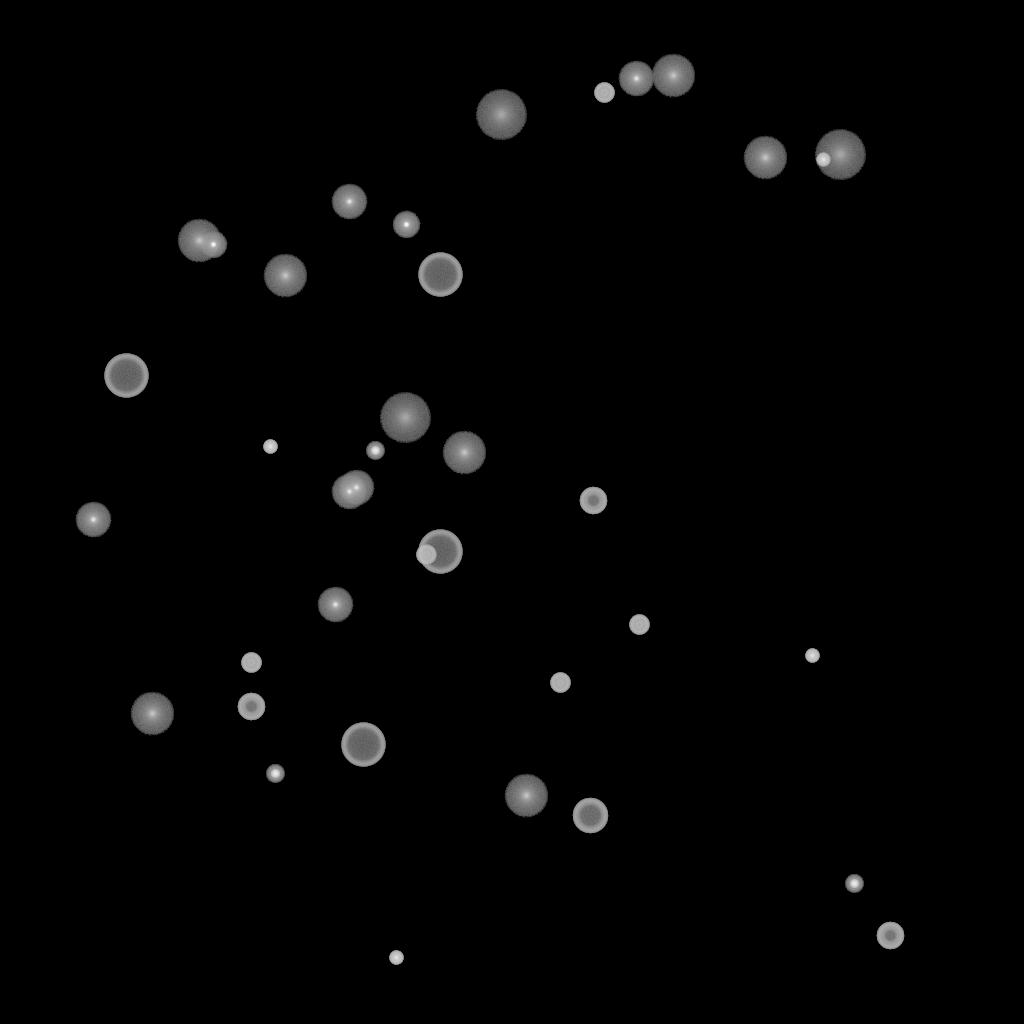depth:-10: (199, 231, 227, 259), (392, 211, 420, 239)
depth:-20: (266, 765, 284, 783), (366, 442, 384, 460), (845, 875, 863, 893)
depth:-30: (805, 649, 819, 663), (389, 951, 403, 965), (816, 153, 830, 167), (263, 440, 277, 454)
depth:-40: (416, 545, 436, 565), (594, 83, 614, 103), (550, 673, 570, 693), (629, 615, 649, 635), (241, 653, 261, 673)
depth:-50: (876, 922, 904, 950), (579, 487, 607, 515), (237, 693, 265, 721)
depth:-60: (572, 798, 608, 834)
depth:-70: (104, 354, 148, 398), (418, 253, 462, 297), (341, 723, 385, 767), (418, 530, 462, 574)
depth:0: (331, 474, 367, 510), (75, 502, 111, 538), (317, 587, 353, 623), (338, 470, 374, 506), (618, 61, 654, 97), (331, 184, 367, 220)
depth:10: (442, 431, 486, 475), (651, 54, 695, 98), (743, 136, 787, 180), (263, 254, 307, 298), (504, 774, 548, 818), (177, 219, 221, 263), (130, 692, 174, 736)
depth:20: (814, 130, 866, 180), (475, 90, 527, 140), (379, 393, 431, 443)
